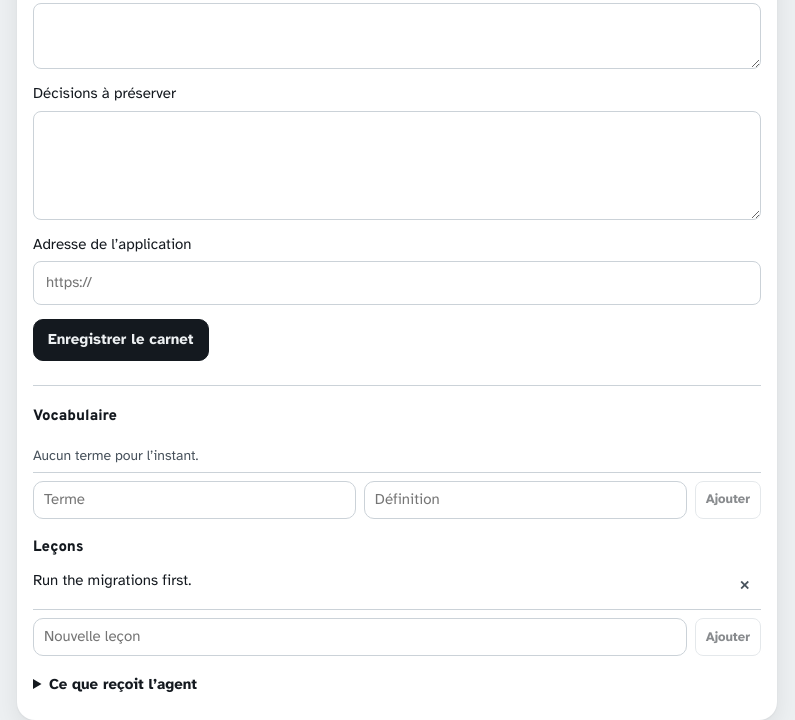
Test: ProjectMemory › adds a term, removes a lesson and shows what agents receive
(page scrolled)
Expected: the text "Run the migrations first." is shown, [33,570,191,592]
Type "Station" into the field labelled "Terme" at (194, 500), box [33,481,356,519]
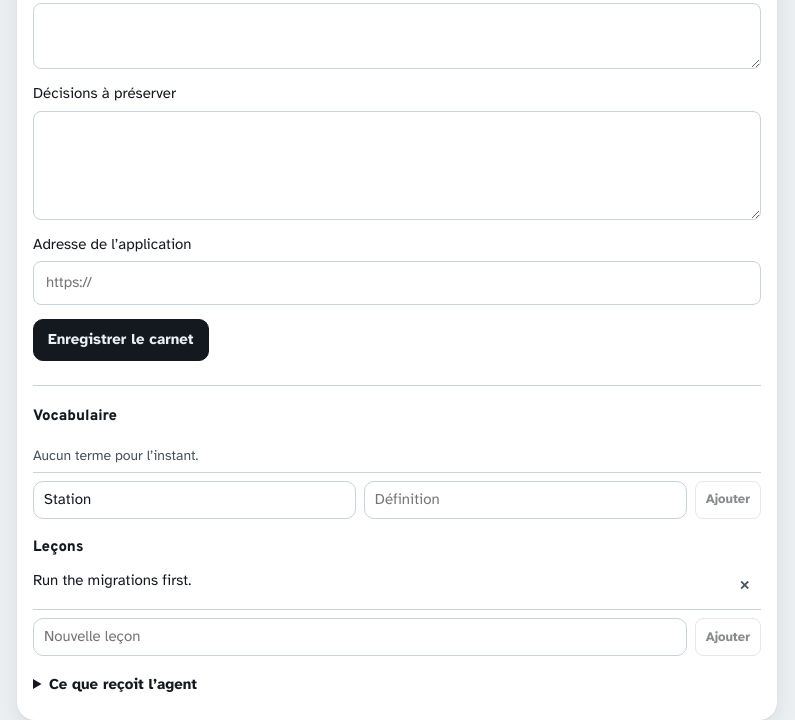
Type "A task on a line." into the field labelled "Définition" at (525, 500), box [364,481,687,519]
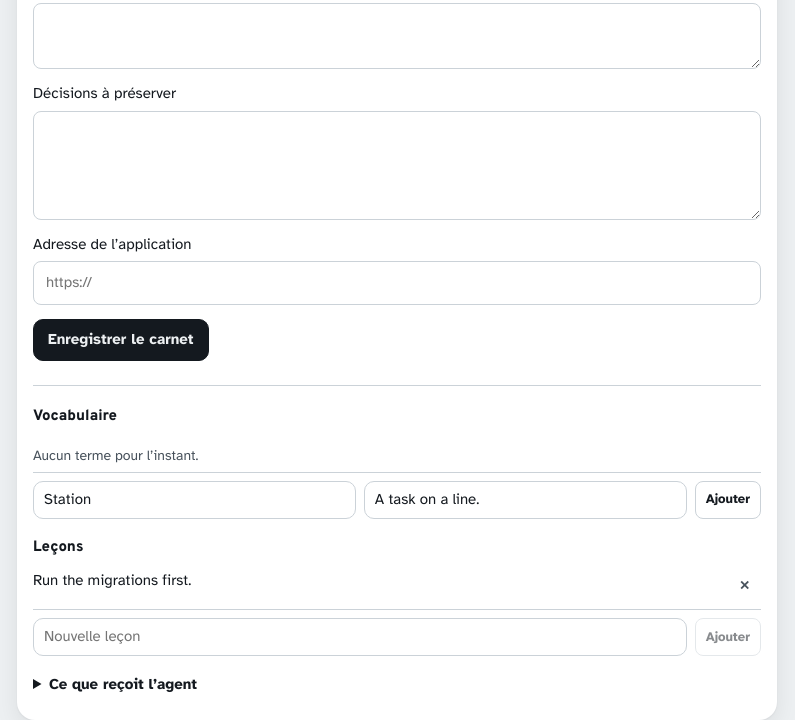
Click the 1st button "Ajouter" at (728, 500), box [695,481,761,519]
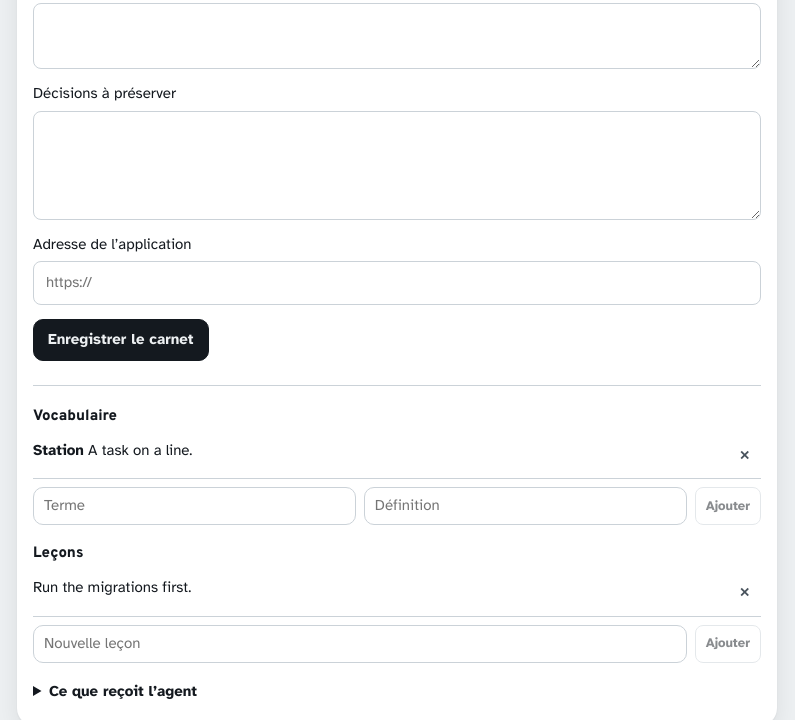
Expected: the text "Station" is shown, [33,441,84,459]
Expected: the field labelled "Terme" is empty, [33,487,356,525]
Click the button named "Retirer « Run the migrations first. »" at (745, 593), box [728,577,761,610]
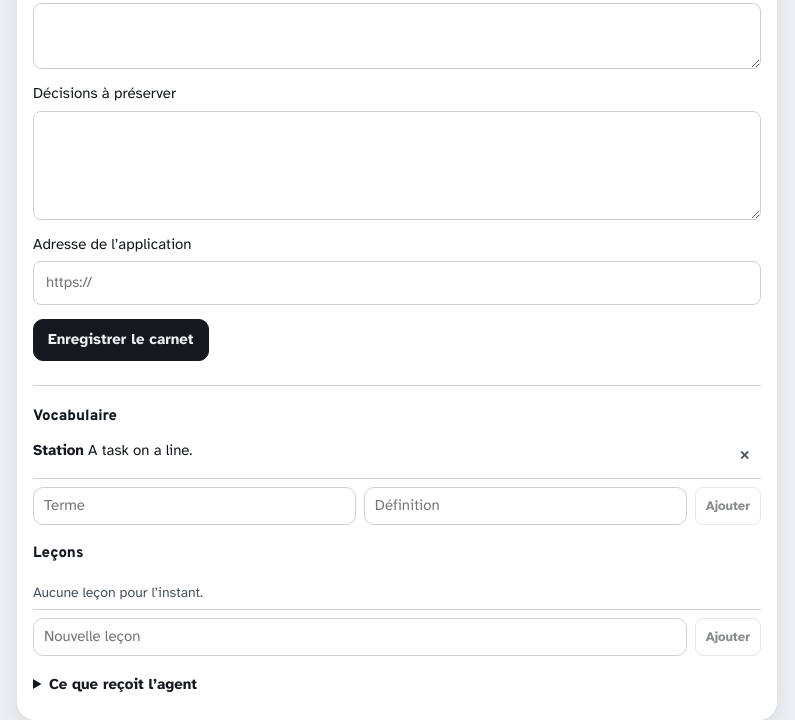
Expected: the list item "Aucune leçon pour l’instant." is shown, [33,577,761,610]
